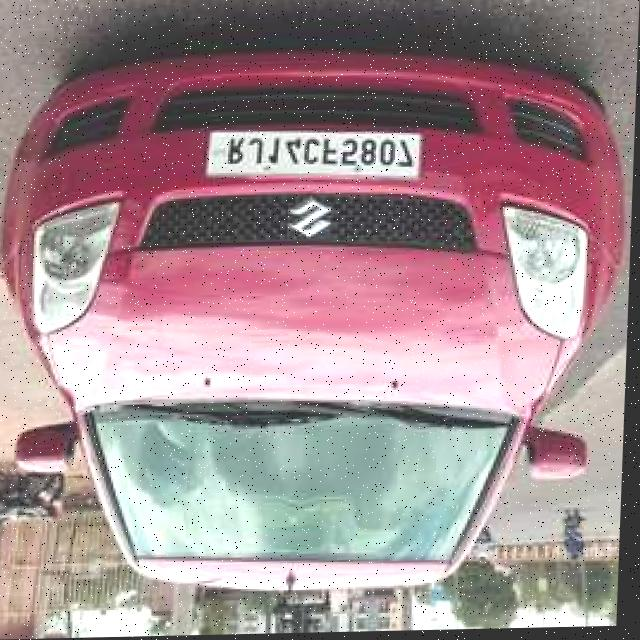plate: (202, 128, 426, 186)
